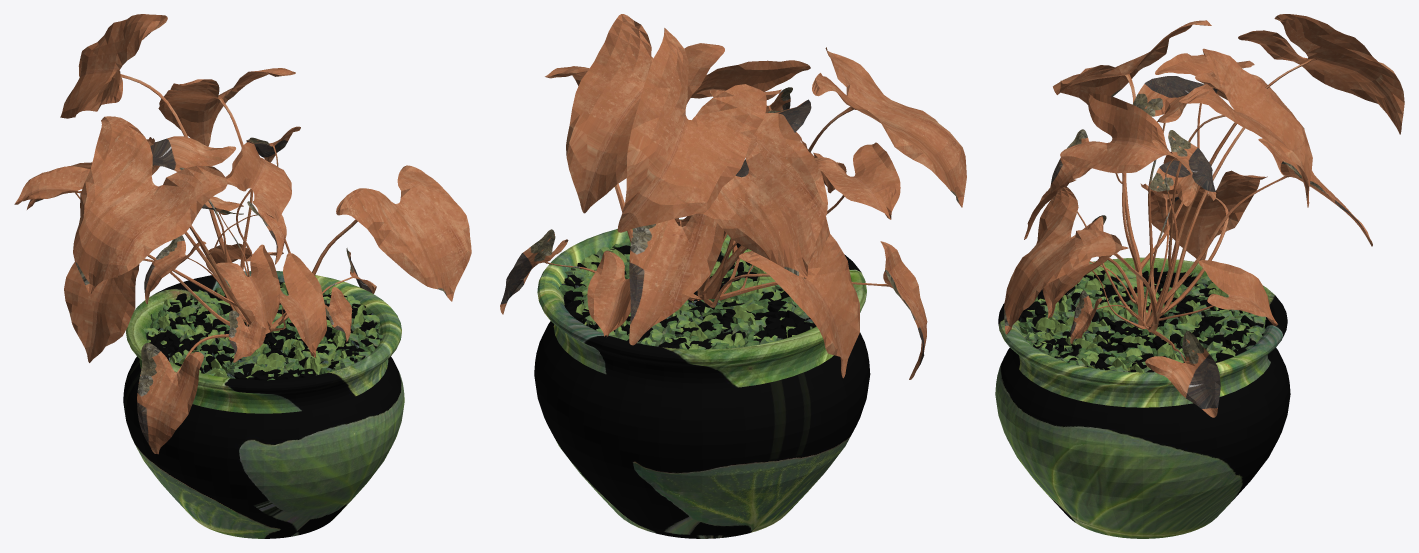
Rendered from plant.obj.
3 renders of one model, left to right at view 1: azimuth 30°, elevation 25°; view 2: azimuth 150°, elevation 25°; view 3: azimuth 270°, elevation 25°, orthographic. The views are drawn at different scales.
Visible parts, largest first — view 1: Circle.001, Circle, low.008; view 2: Circle.001, Circle, low.008; view 3: Circle.001, Circle, low.008.
Boxes of the visible parts, x1,y1,x2,y2 form: Circle.001: (14, 14, 471, 454); Circle: (123, 271, 404, 538); low.008: (143, 282, 383, 380); Circle.001: (500, 14, 966, 379); Circle: (534, 219, 870, 538); low.008: (559, 234, 816, 349); Circle.001: (1004, 14, 1404, 417); Circle: (995, 257, 1290, 538); low.008: (1018, 267, 1266, 372).
Size of the model in its own units: 0.7012 by 0.8412 by 0.6574.
2 materials, 2 textured.
